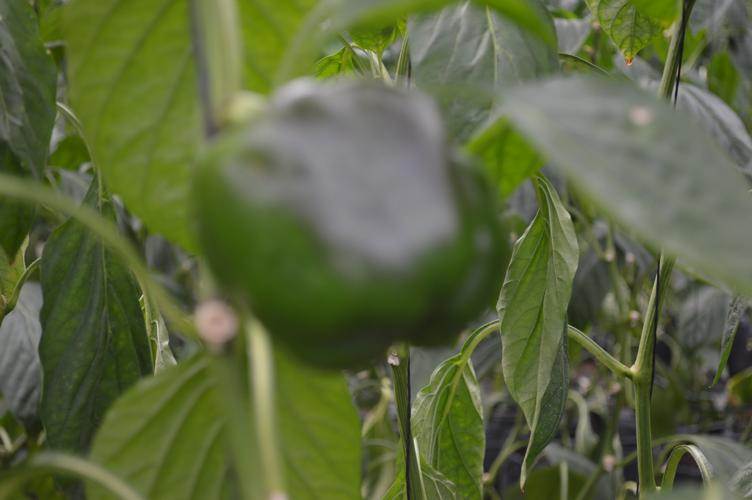BellPepper: (189, 76, 502, 364)
